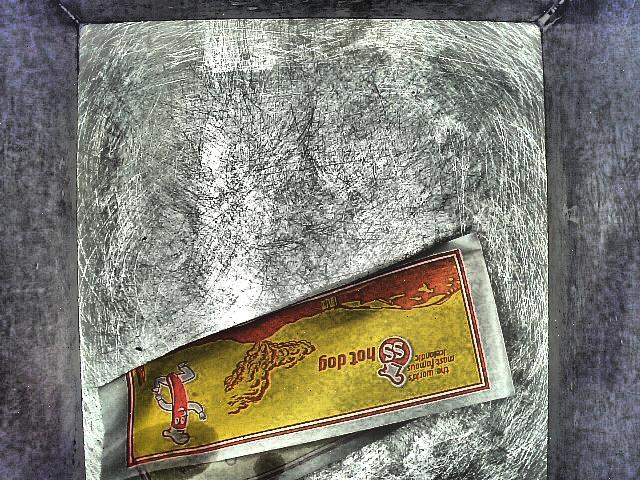Paper: (86, 223, 520, 480)
